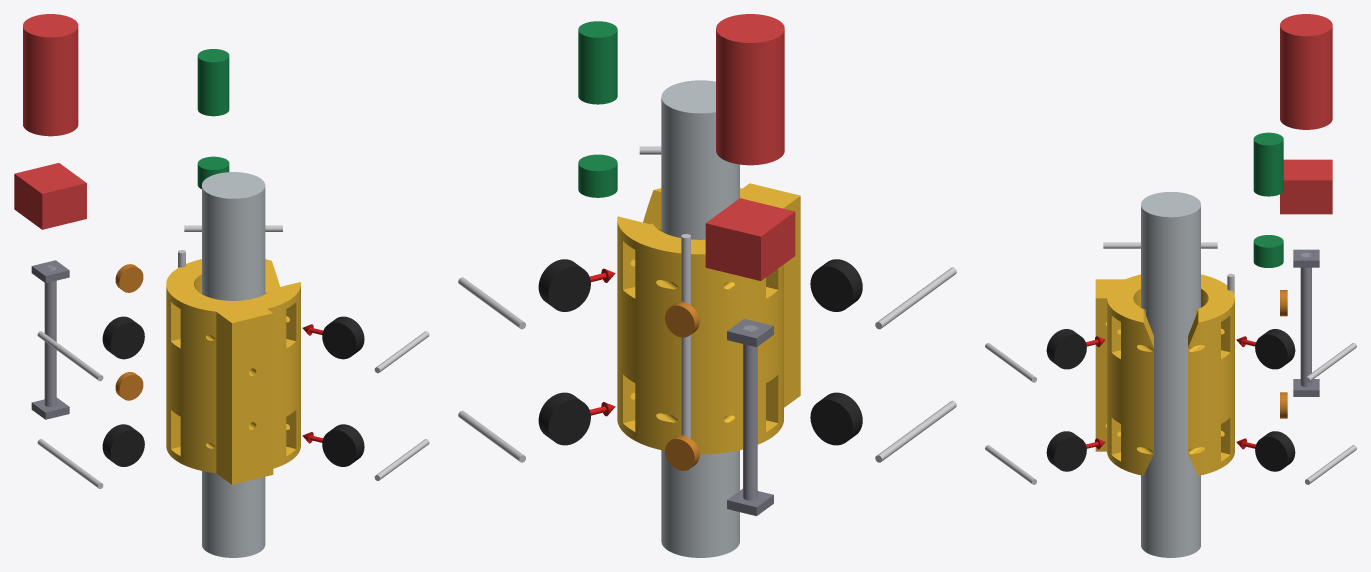
The model's file is sleeves_exploded.glb.
3 renders of one model, left to right at view 1: azimuth 30°, elevation 25°; view 2: azimuth 150°, elevation 25°; view 3: azimuth 270°, elevation 25°, orthographic. The views are drawn at different scales.
Parts seen in each view (by area): view 1: sleeve, track_pipe, drive_motor, gearbox, jaw_motor, worm, wheel_0, wheel_5, wheel_2, wheel_3, worm_wheels, bearing_blocks (+3 smaller); view 2: sleeve, track_pipe, drive_motor, gearbox, jaw_motor, worm, wheel_3, wheel_4, wheel_0, wheel_1, worm_wheels, jaw_hinge_pin (+6 smaller); view 3: sleeve, track_pipe, drive_motor, gearbox, jaw_motor, worm, wheel_4, wheel_5, wheel_1, wheel_2, jaw_gearbox, bearing_blocks.
Boxes of the visible parts, x1,y1,x2,y2 form: sleeve: (166,259,300,484); track_pipe: (202,172,265,557); drive_motor: (23,14,78,136); gearbox: (14,163,86,229); jaw_motor: (197,49,229,116); worm: (44,265,56,407); wheel_0: (102,316,144,359); wheel_5: (322,424,364,466); wheel_2: (322,316,364,359); wheel_3: (102,424,144,466); worm_wheels: (115,264,143,400); bearing_blocks: (31,260,69,419); sleeve: (617,183,800,454); track_pipe: (661,80,739,557); drive_motor: (716,14,784,165); gearbox: (705,198,795,280); jaw_motor: (578,21,617,104); worm: (743,325,757,500); wheel_3: (810,392,862,445); wheel_4: (538,392,590,445); wheel_0: (810,259,862,311); wheel_1: (538,259,590,311); worm_wheels: (665,302,699,470); jaw_hinge_pin: (681,234,690,438); sleeve: (1095,274,1234,475); track_pipe: (1141,192,1200,557); drive_motor: (1280,14,1332,129); gearbox: (1280,159,1332,214); jaw_motor: (1253,132,1283,196); worm: (1300,252,1311,386); wheel_4: (1255,431,1295,471); wheel_5: (1046,431,1086,471); wheel_1: (1255,329,1295,369); wheel_2: (1046,329,1086,369); jaw_gearbox: (1253,235,1283,267); bearing_blocks: (1293,249,1319,396).
Size of the model in its own units: 171 by 275 by 198.
